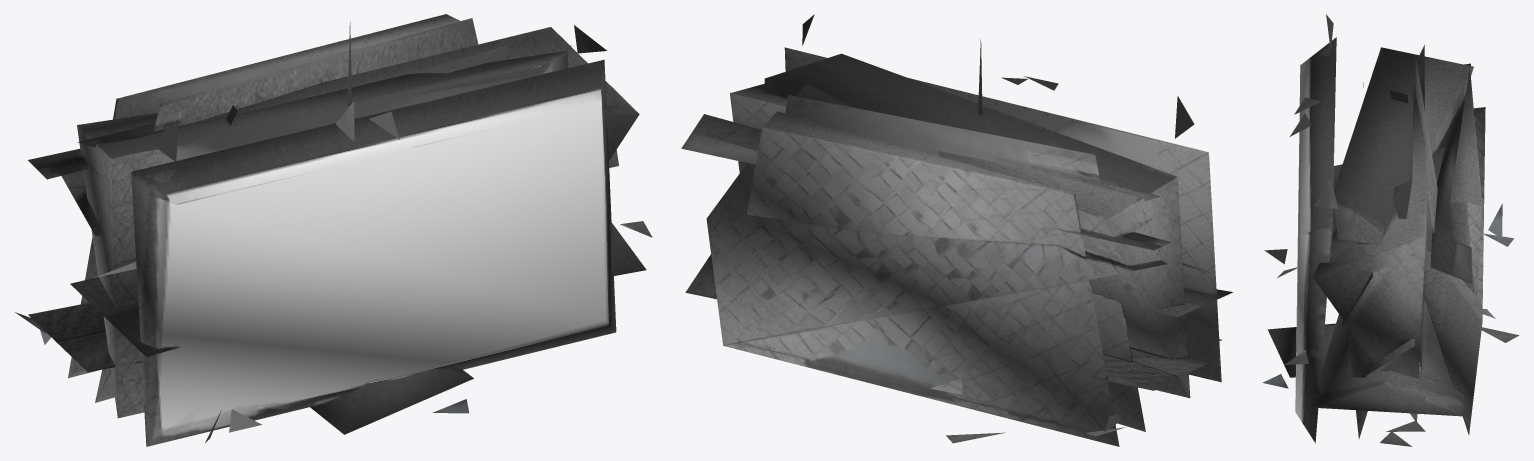
The model's file is space_billboard.glb.
3 views of the same model, side by side, from view 1: azimuth 30°, elevation 25°; view 2: azimuth 150°, elevation 25°; view 3: azimuth 270°, elevation 25° (orthographic). The views are drawn at different scales.
Bounding box in the file's own units: 1 × 0.682 × 0.5223.
1 material, 1 textured.
